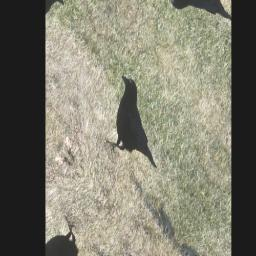Crow: (93, 66, 175, 188)
